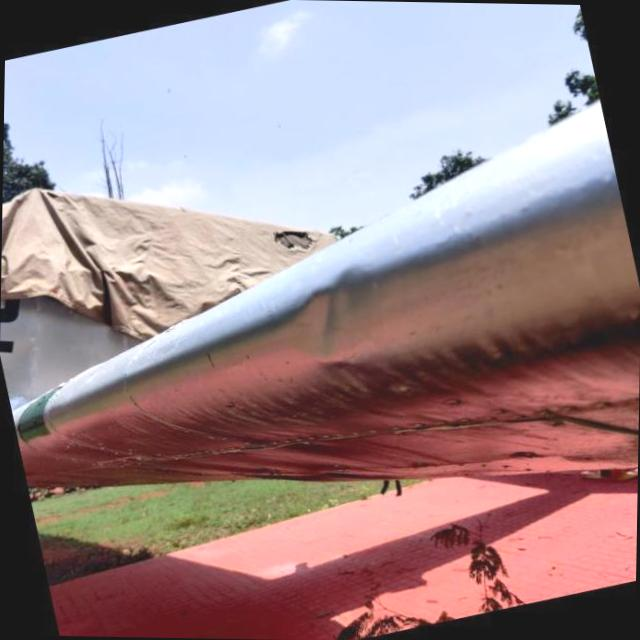dent: (266, 220, 390, 364)
